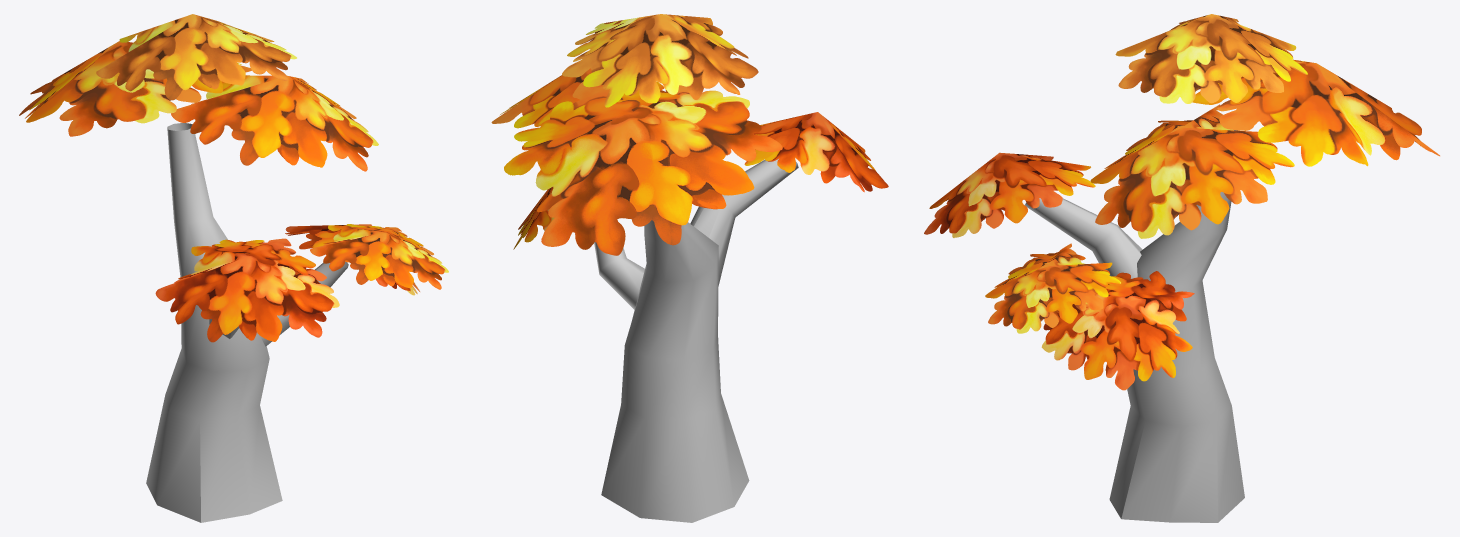
The model's file is Oak1.fbx.
The picture shows the model from 3 angles, left to right: view 1: azimuth 30°, elevation 25°; view 2: azimuth 150°, elevation 25°; view 3: azimuth 270°, elevation 25°; orthographic projection. The views are drawn at different scales.
Visible parts, largest first — view 1: Oak1; view 2: Oak1; view 3: Oak1.
Boxes of the visible parts, box(x1,y1,x2,y2) form: Oak1: box(19, 14, 448, 522); Oak1: box(491, 14, 888, 522); Oak1: box(924, 14, 1439, 522).
Size of the model in its own units: 1114 by 1575 by 1557.
